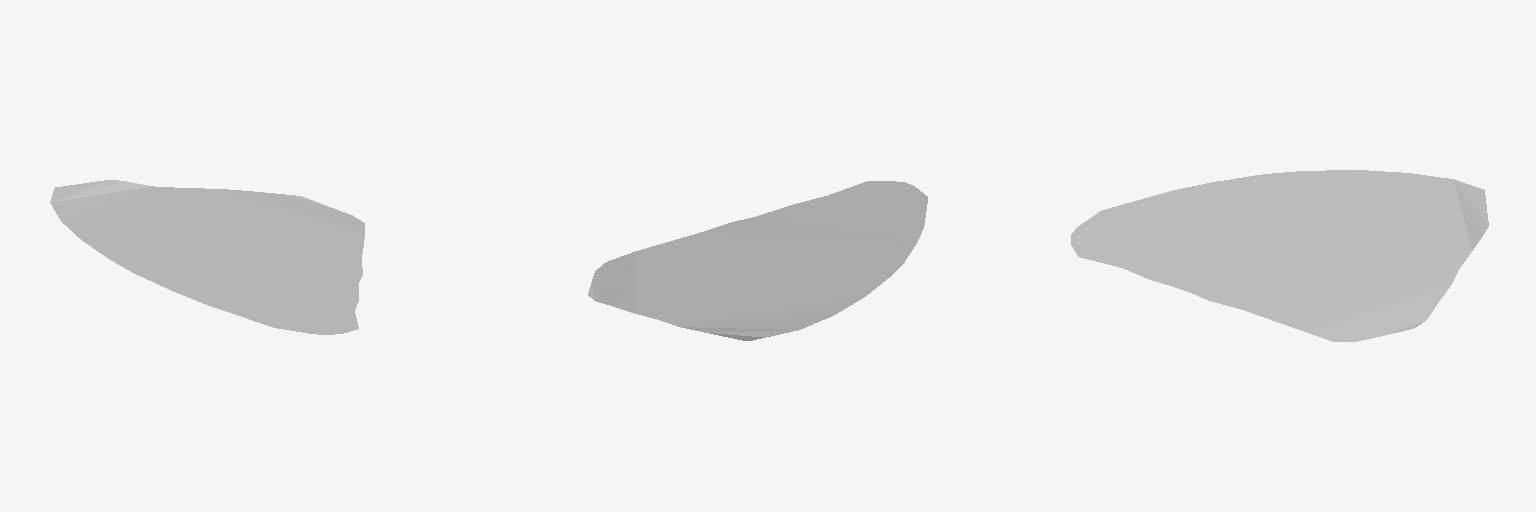
File: moth_wing_l1.obj
The picture shows the model from 3 angles: view 1: azimuth 30°, elevation 25°; view 2: azimuth 150°, elevation 25°; view 3: azimuth 270°, elevation 25°; orthographic projection.
Visible parts, largest first — view 1: Cylinder.004_Cylinder.011; view 2: Cylinder.004_Cylinder.011; view 3: Cylinder.004_Cylinder.011.
Boxes of the visible parts, x1,y1,x2,y2 form: Cylinder.004_Cylinder.011: [50, 180, 364, 334]; Cylinder.004_Cylinder.011: [588, 181, 927, 340]; Cylinder.004_Cylinder.011: [1071, 170, 1488, 341].
Bounding box in the file's own units: 2 × 0.2837 × 2.68.